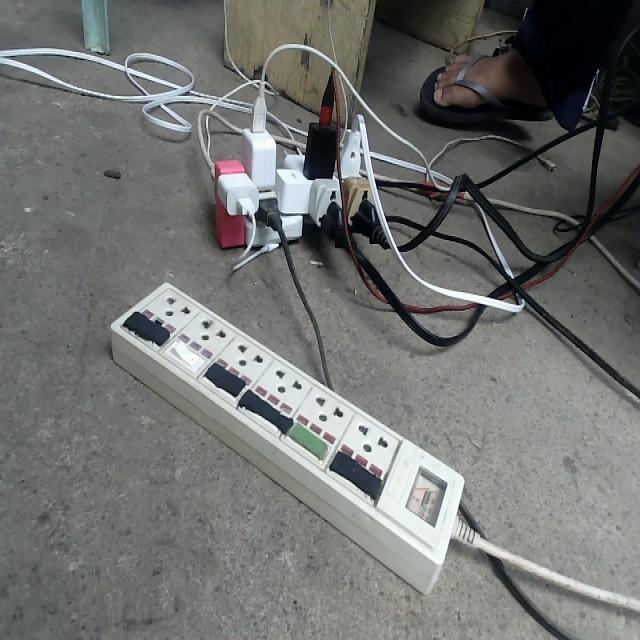-: (206, 70, 396, 254)
